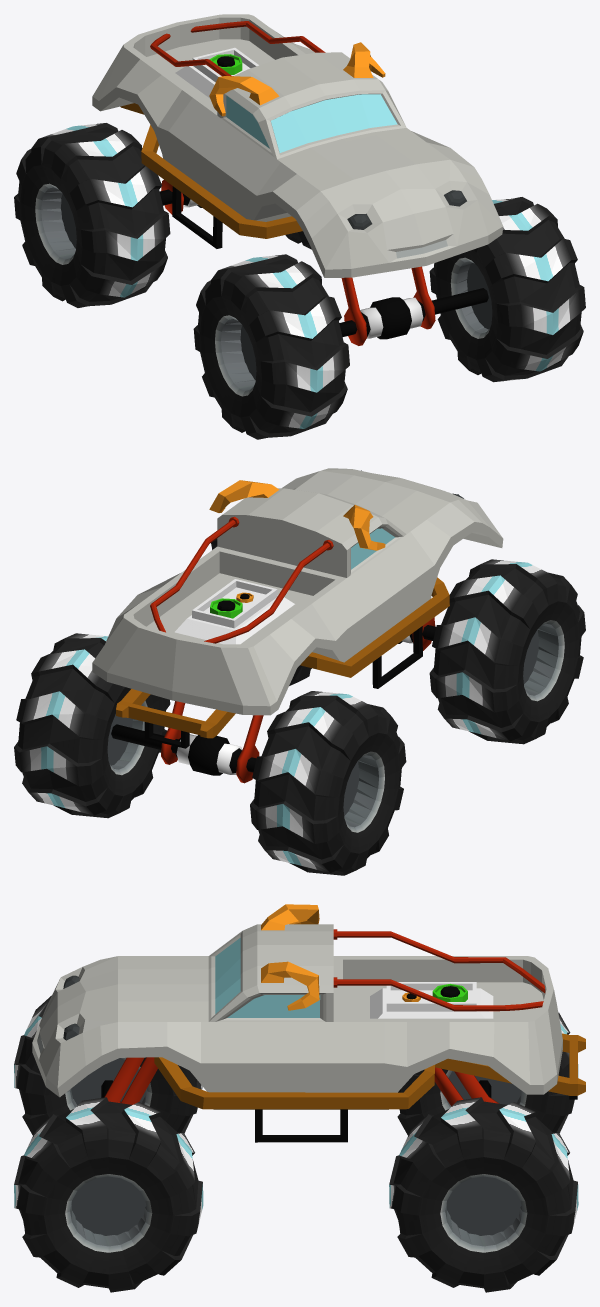
File: Goat.fbx
3 renders of one model, top to bottom at view 1: azimuth 30°, elevation 25°; view 2: azimuth 150°, elevation 25°; view 3: azimuth 270°, elevation 25°, orthographic. The views are drawn at different scales.
Visible parts, largest first — view 1: Monster_Truck_Body, Wheel_FR, Wheel_RR, Wheel_FL, Axel Front, Monster_Truck_Livery; view 2: Monster_Truck_Body, Wheel_RR, Wheel_FR, Wheel_RL, Axel Back, Monster_Truck_Livery; view 3: Monster_Truck_Body, Wheel_FL, Wheel_RL, Wheel_FR, Wheel_RR, Monster_Truck_Livery, Axel Front, Axel Back.
Boxes of the visible parts, box(x1,y1,x2,y2) form: Monster_Truck_Body: box(92, 14, 503, 277); Wheel_FR: box(193, 254, 349, 439); Wheel_RR: box(14, 123, 170, 307); Wheel_FL: box(429, 197, 585, 382); Axel Front: box(339, 266, 488, 345); Monster_Truck_Livery: box(175, 47, 258, 98); Monster_Truck_Body: box(92, 468, 503, 748); Wheel_RR: box(250, 691, 406, 875); Wheel_FR: box(429, 559, 585, 744); Wheel_RL: box(14, 633, 170, 818); Axel Back: box(111, 701, 263, 783); Monster_Truck_Livery: box(175, 579, 294, 644); Monster_Truck_Body: box(32, 904, 585, 1142); Wheel_FL: box(14, 1097, 203, 1292); Wheel_RL: box(389, 1097, 578, 1292); Wheel_FR: box(14, 995, 202, 1135); Wheel_RR: box(397, 1012, 578, 1135); Monster_Truck_Livery: box(370, 982, 493, 1018); Axel Front: box(101, 1057, 157, 1104); Axel Back: box(434, 1067, 498, 1106).
Bounding box in the file's own units: 485 × 398 × 725.
